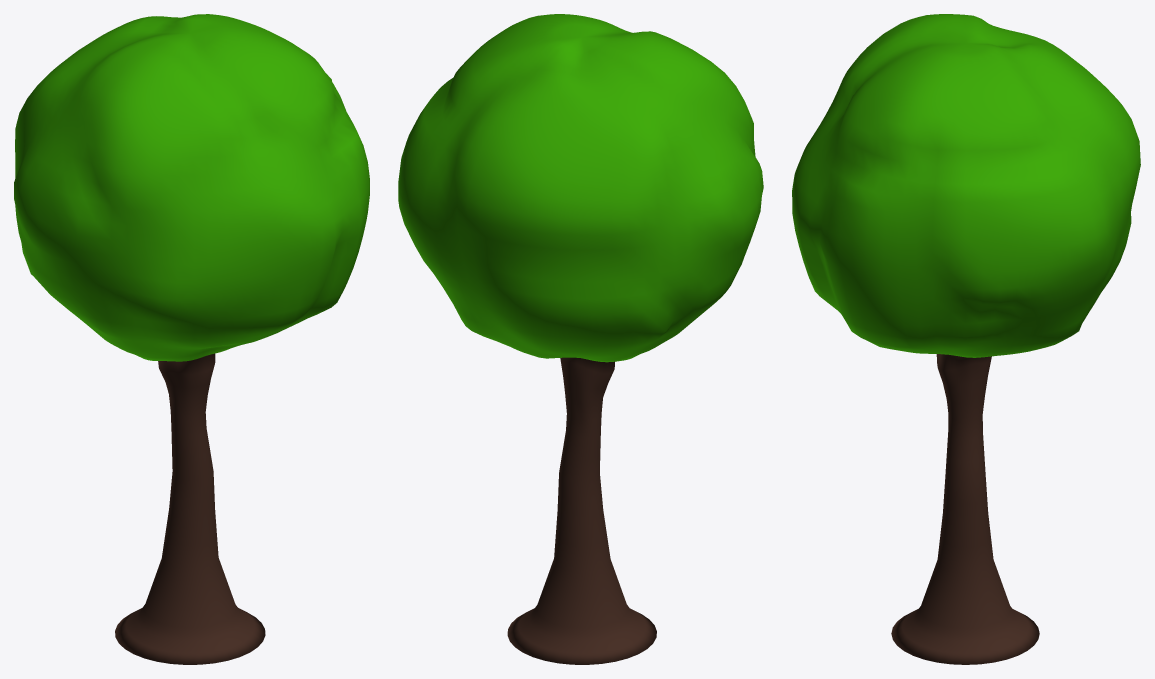
File: Tree.fbx
3 renders of one model, left to right at view 1: azimuth 30°, elevation 25°; view 2: azimuth 150°, elevation 25°; view 3: azimuth 270°, elevation 25°, orthographic.
Visible parts, largest first — view 1: Cylinder; view 2: Cylinder; view 3: Cylinder.
Part boxes in pixels (bbox=[...]): Cylinder: bbox=[14, 14, 369, 664]; Cylinder: bbox=[398, 14, 763, 664]; Cylinder: bbox=[792, 14, 1140, 664].
Bounding box in the file's own units: 4.63 × 8.37 × 4.47.
